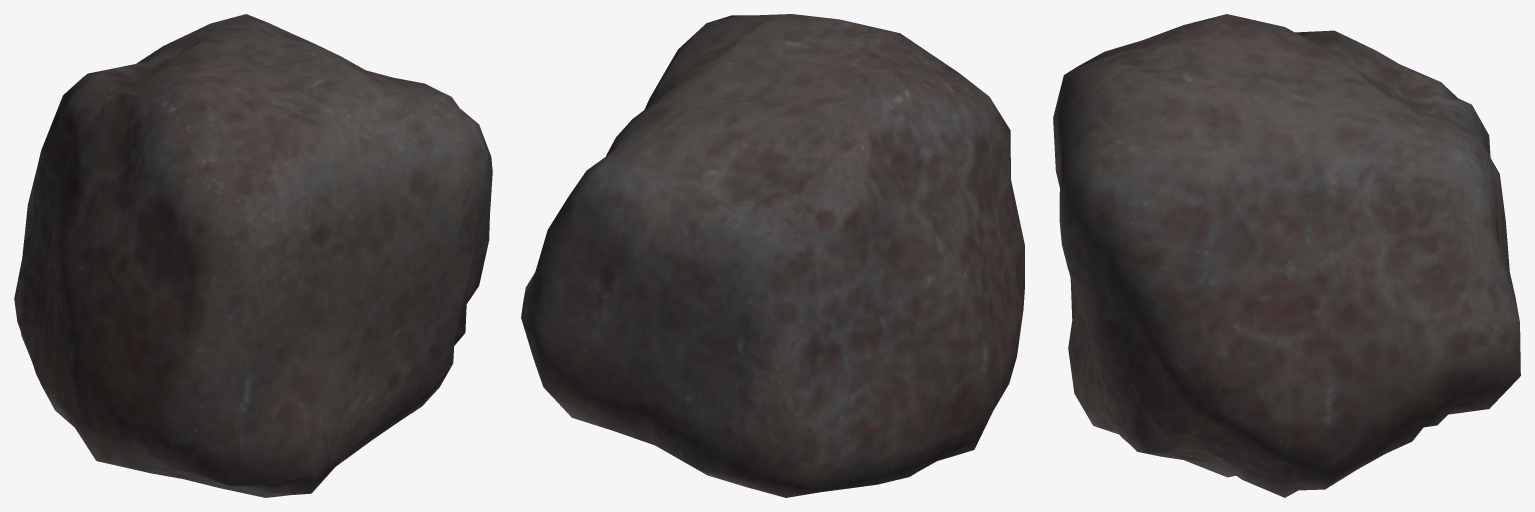
File: asteroid2.dae
3 renders of one model, left to right at view 1: azimuth 30°, elevation 25°; view 2: azimuth 150°, elevation 25°; view 3: azimuth 270°, elevation 25°, orthographic. The views are drawn at different scales.
Parts seen in each view (by area): view 1: Lp02; view 2: Lp02; view 3: Lp02.
Part boxes in pixels (x1=…): Lp02: x1=14, y1=14, x2=492, y2=497; Lp02: x1=521, y1=14, x2=1024, y2=497; Lp02: x1=1053, y1=14, x2=1520, y2=497.
Bounding box in the file's own units: 7.31 × 7.04 × 7.2.
1 material, 1 textured.
